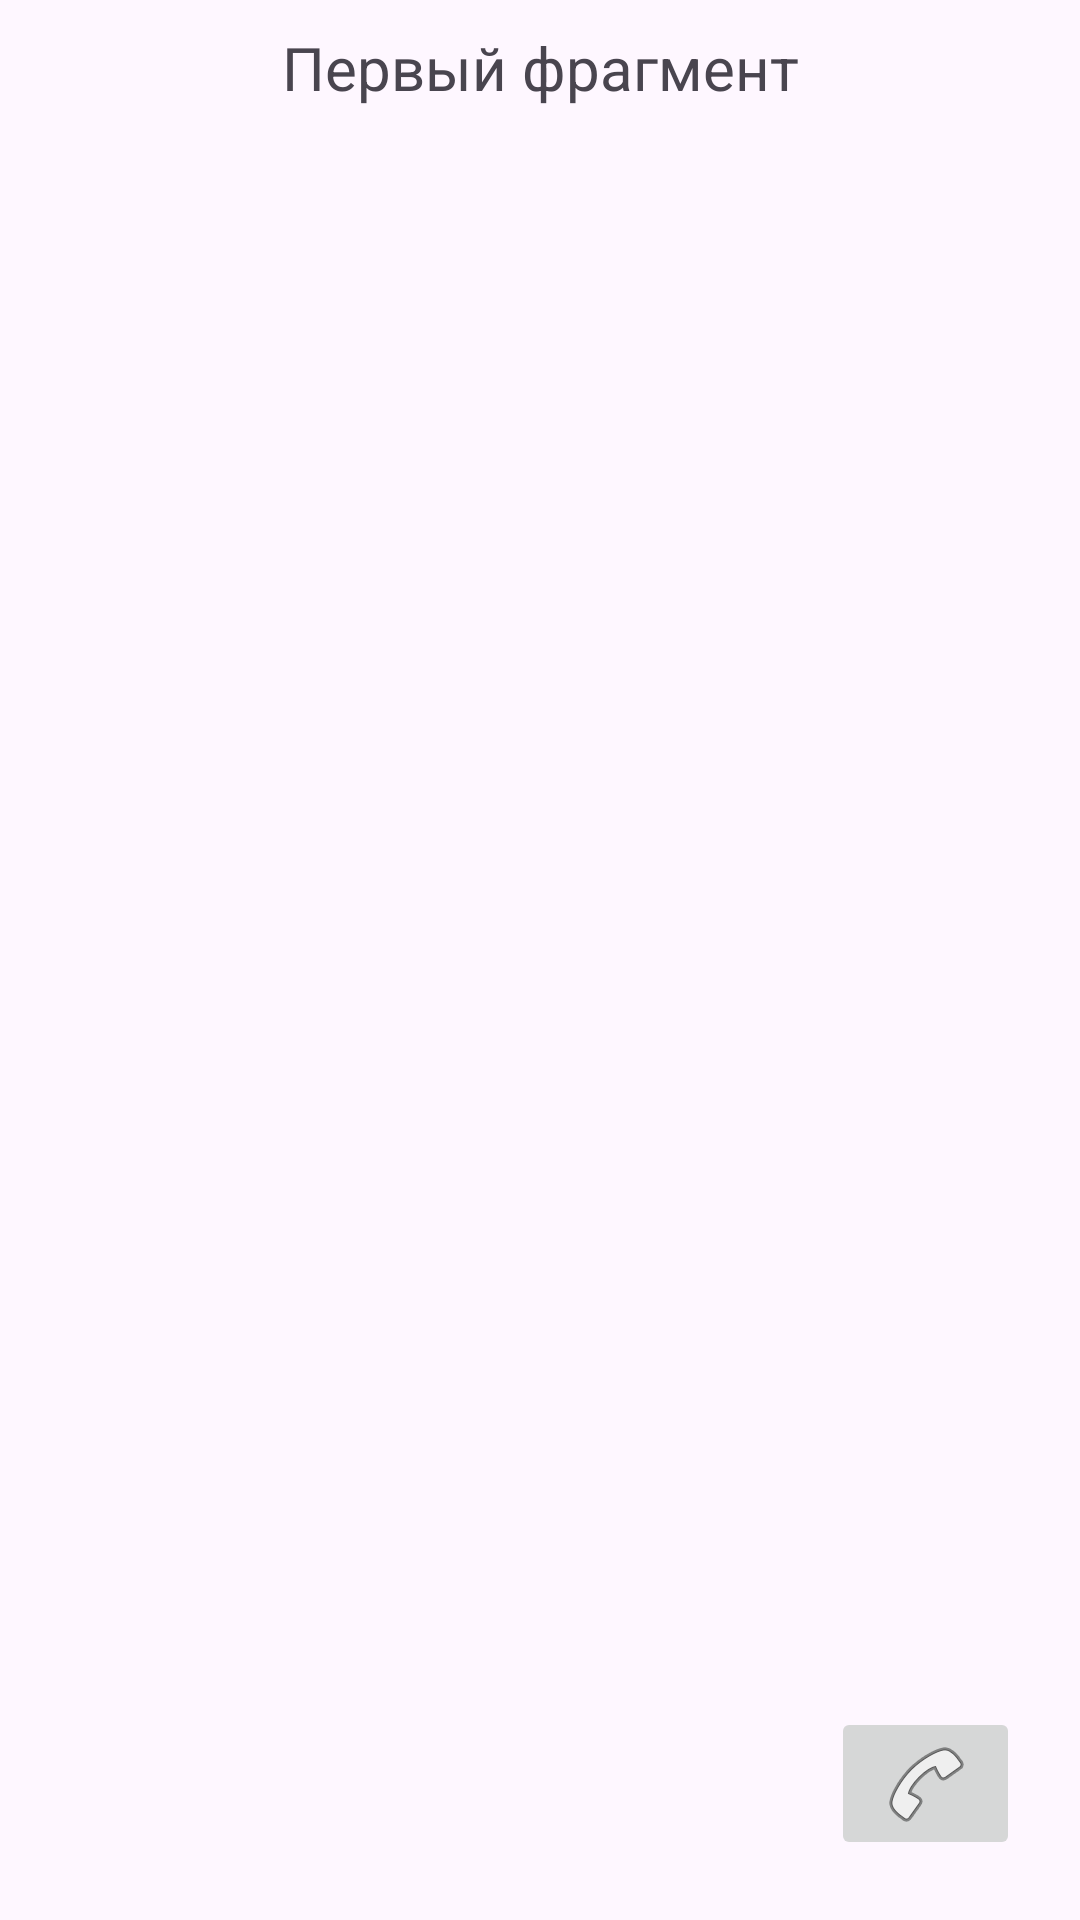

Screen size 1080*1920. Icon name, then its center in pixels as [x,y]:
call: [925,1783]
